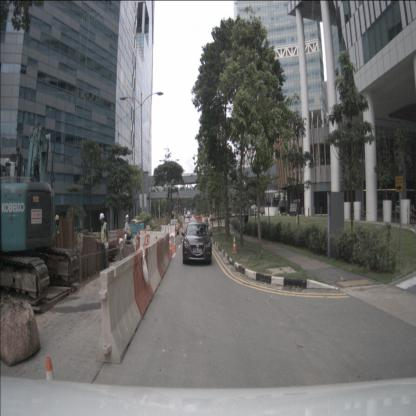barrier: (94, 255, 142, 366), (129, 247, 154, 320), (145, 240, 162, 296), (140, 230, 168, 258), (154, 237, 166, 278), (160, 234, 169, 266), (160, 225, 176, 238), (105, 230, 117, 244), (115, 229, 123, 243)
cone: (232, 236, 237, 253), (169, 239, 173, 257), (173, 236, 177, 252), (179, 231, 183, 242)
